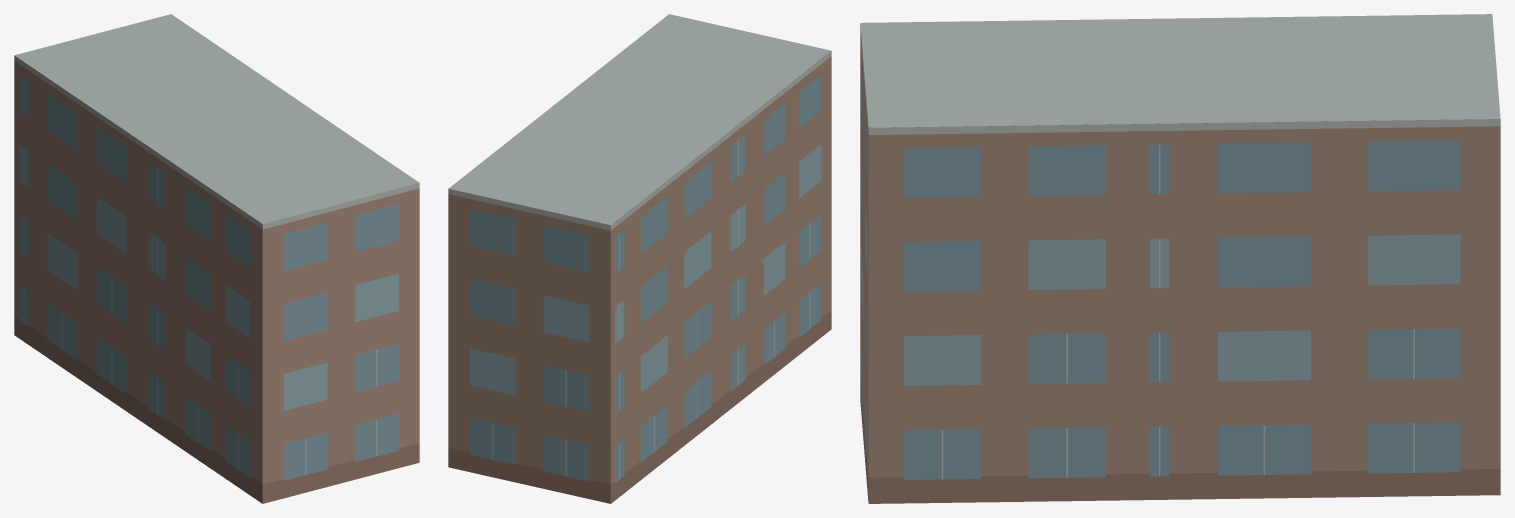
File: survey-upis-32989029.glb
3 renders of one model, left to right at view 1: azimuth 30°, elevation 25°; view 2: azimuth 150°, elevation 25°; view 3: azimuth 270°, elevation 25°, orthographic. The views are drawn at different scales.
Visible parts, largest first — view 1: survey-upis-32989029.tmp; view 2: survey-upis-32989029.tmp; view 3: survey-upis-32989029.tmp.
Part boxes in pixels (bbox=[...]): survey-upis-32989029.tmp: bbox=[14, 14, 419, 503]; survey-upis-32989029.tmp: bbox=[448, 14, 831, 503]; survey-upis-32989029.tmp: bbox=[860, 14, 1500, 503].
Bounding box in the file's own units: 8.12 × 12.5 × 19.29.
